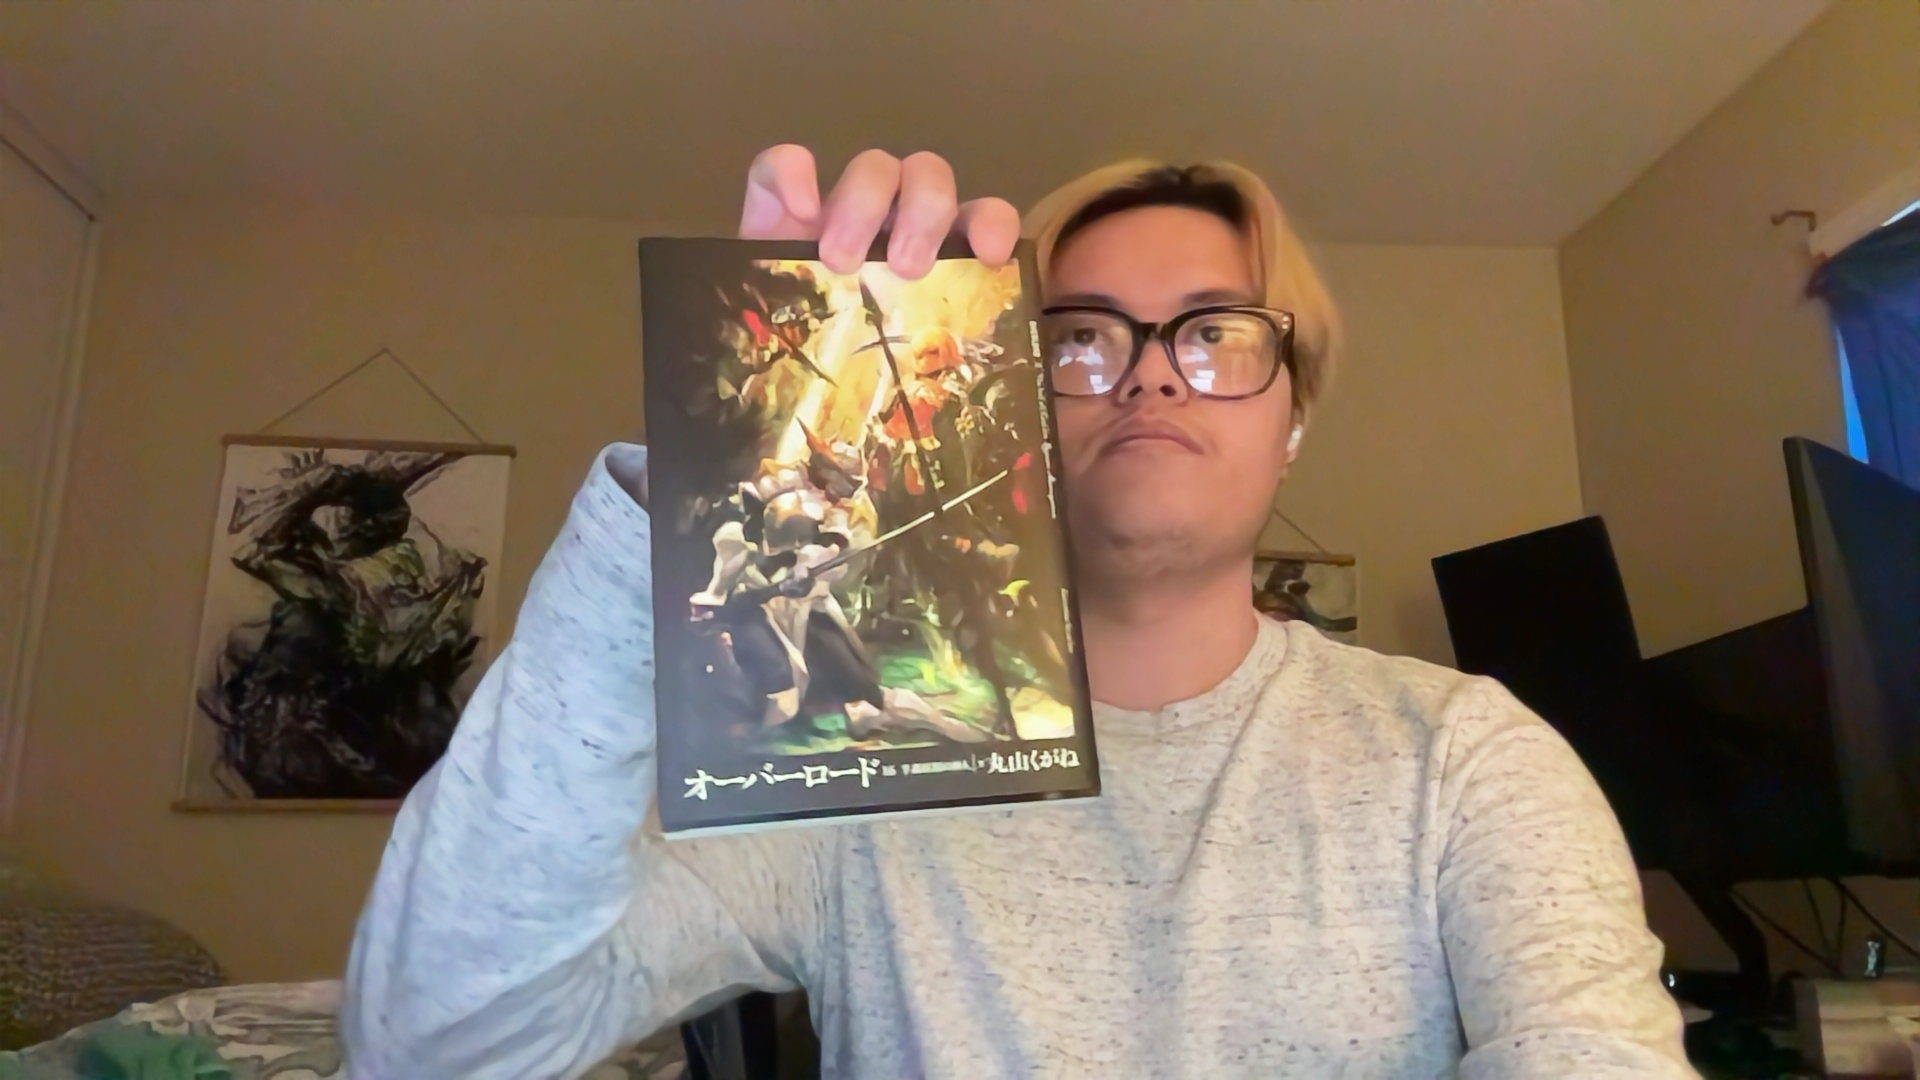book: (633, 218, 1104, 841)
